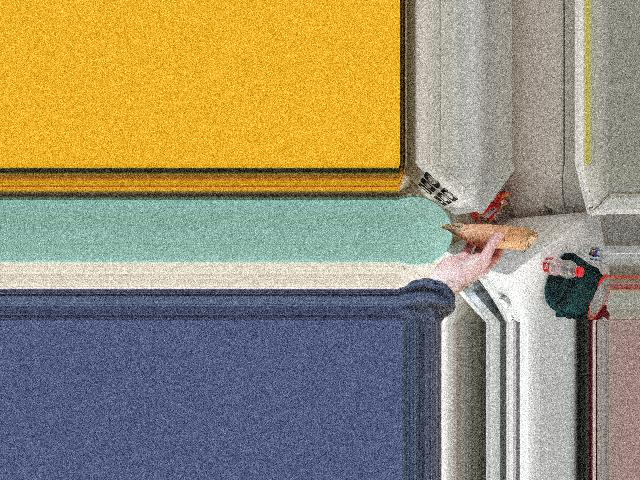sweet_potato: (445, 224, 536, 251)
